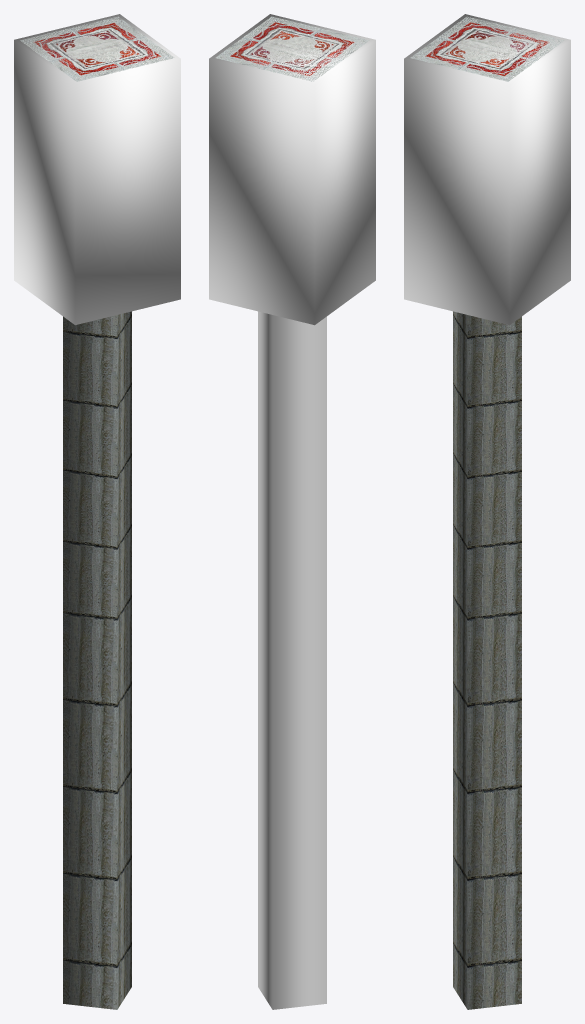
The model's file is RisingPlatformSmallCombined.obj.
3 views of the same model, side by side, from view 1: azimuth 30°, elevation 25°; view 2: azimuth 150°, elevation 25°; view 3: azimuth 330°, elevation 25° (orthographic).
Bounding box in the file's own units: 53.77 × 460 × 53.77.
9 materials, 9 textured.
